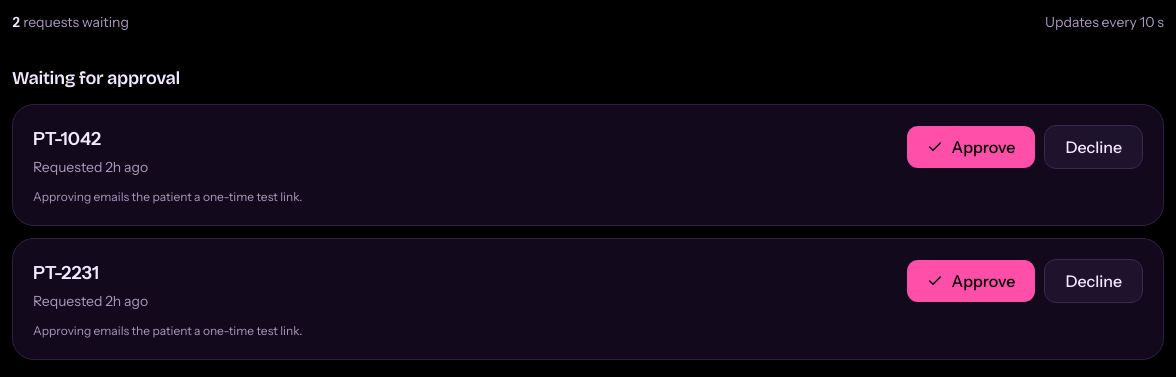
Scenario: RequestsInbox › approve → email sent badge
The image size is (1176, 377).
Step 1. Click the button with aria-label "Approve refill request for PT-1042" → {"x": 972, "y": 147}, box [906,125,1036,169]
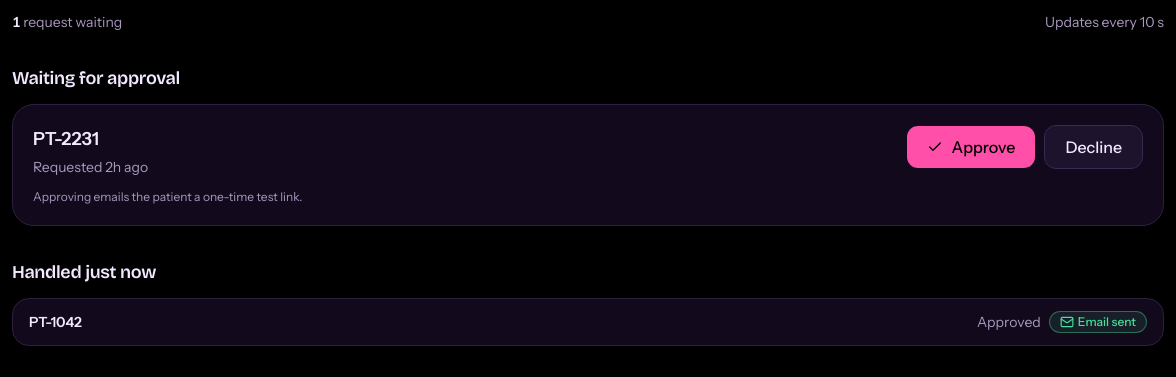
Expected: the text "PT-1042" is shown, [29,312,82,332]
Expected: the element showing "Email sent" is shown, [1049,311,1147,333]
